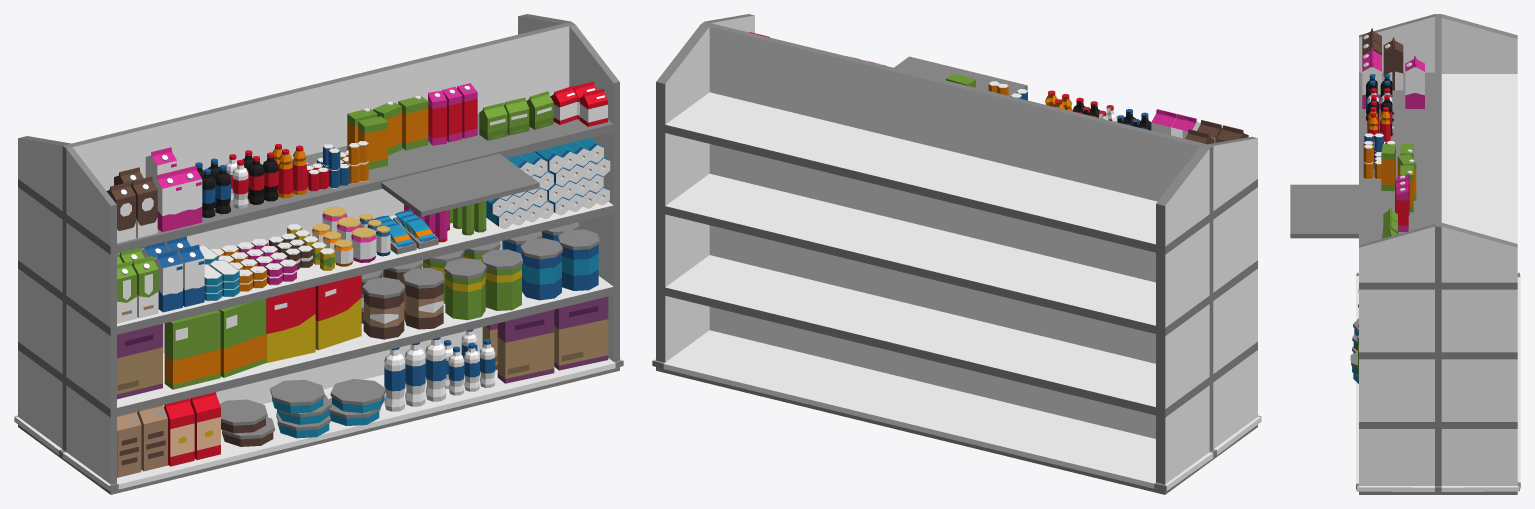
File: SMless_shelf_game_01.fbx
3 renders of one model, left to right at view 1: azimuth 30°, elevation 25°; view 2: azimuth 150°, elevation 25°; view 3: azimuth 270°, elevation 25°, orthographic. The views are drawn at different scales.
Parts seen in each view (by area): view 1: SMless_shelf_game_01; view 2: SMless_shelf_game_01; view 3: SMless_shelf_game_01.
Part boxes in pixels (x1,y1,x2,y2): SMless_shelf_game_01: [14, 14, 623, 494]; SMless_shelf_game_01: [652, 14, 1261, 494]; SMless_shelf_game_01: [1290, 14, 1520, 494].
Bounding box in the file's own units: 406 × 236 × 183.
